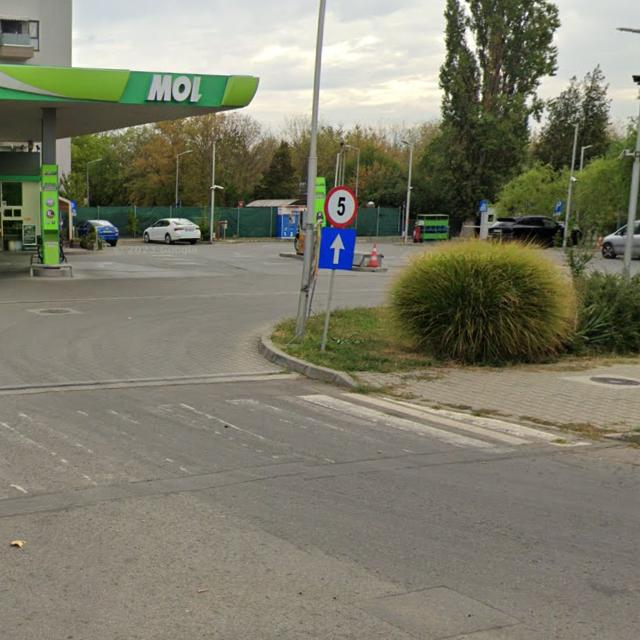forb_speed_over_5: (324, 186, 358, 227)
info_one_way_traffic: (318, 227, 357, 269)
